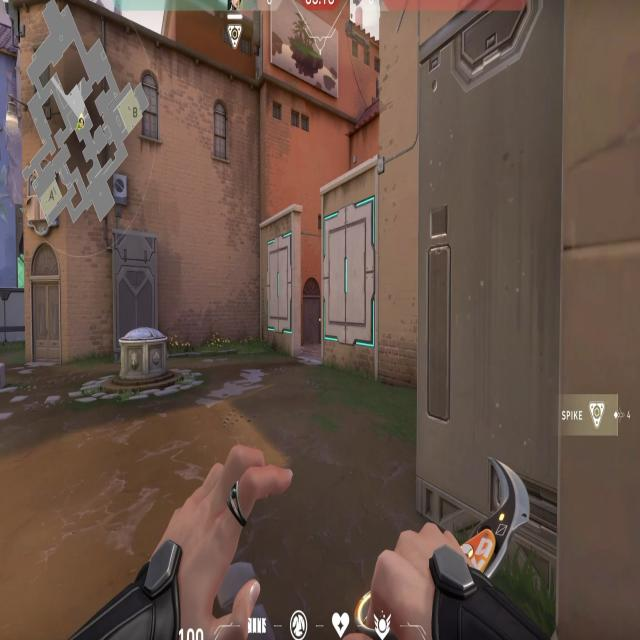Mid_Wall: (317, 175, 386, 370), (252, 199, 304, 361)
